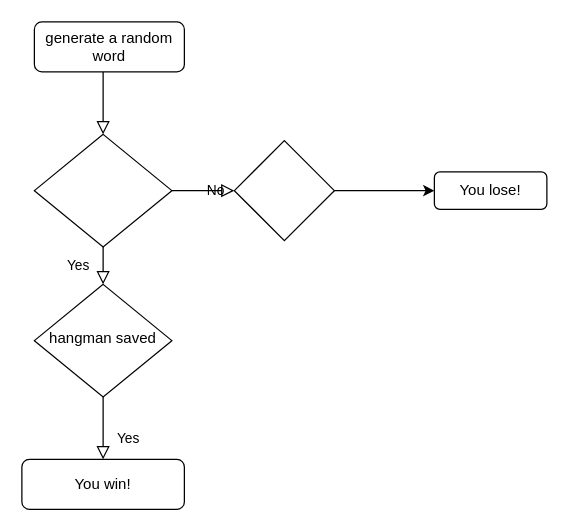
Image size: 569x531. Some labels were removed from this diagram. Here are the shapes that lost their labels. From the top down, the centre of each, then its label:
At (102,190): "ask the user to guess the letter".
At (283,190): "hangman hanged".
